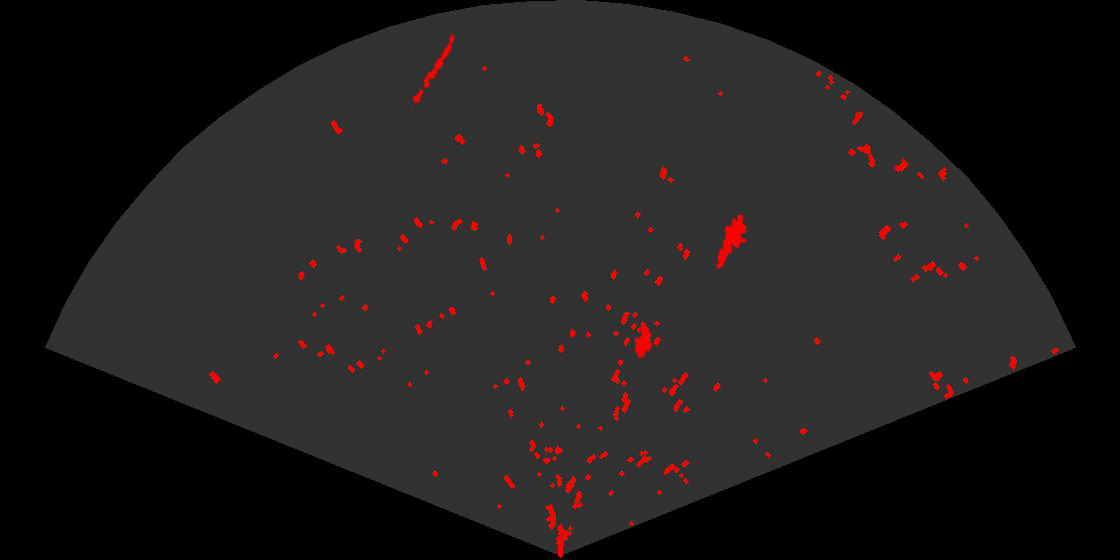AUV: (633, 319, 654, 360)
chain: (407, 32, 456, 112)
frogman: (715, 215, 749, 270)
